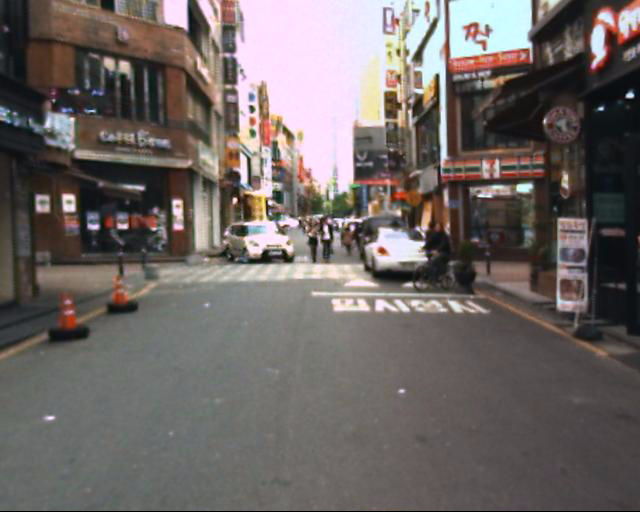person: (421, 219, 462, 286), (314, 207, 345, 265), (414, 216, 435, 283), (342, 206, 366, 263), (301, 207, 322, 271)
